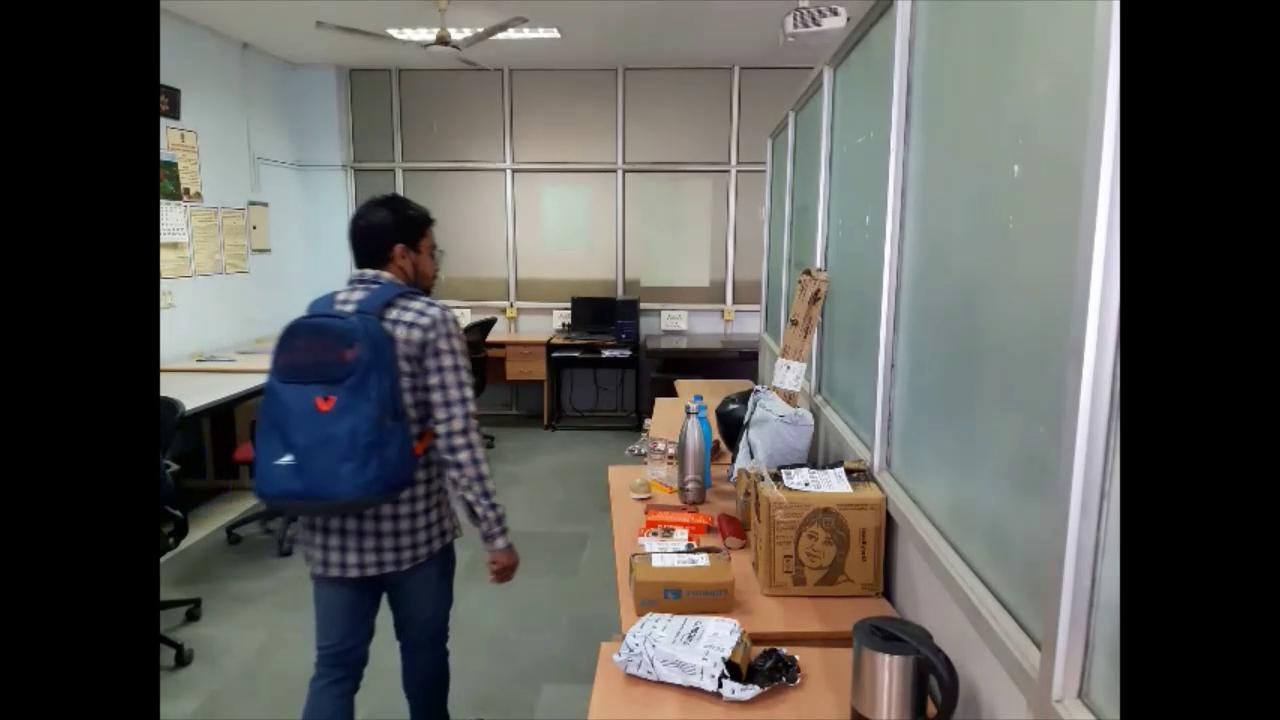Normal: (244, 177, 528, 720)
